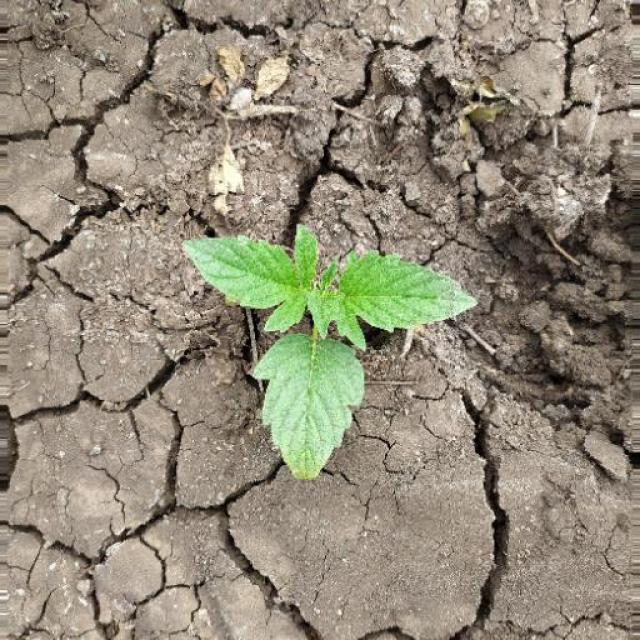crop: (179, 212, 479, 486)
